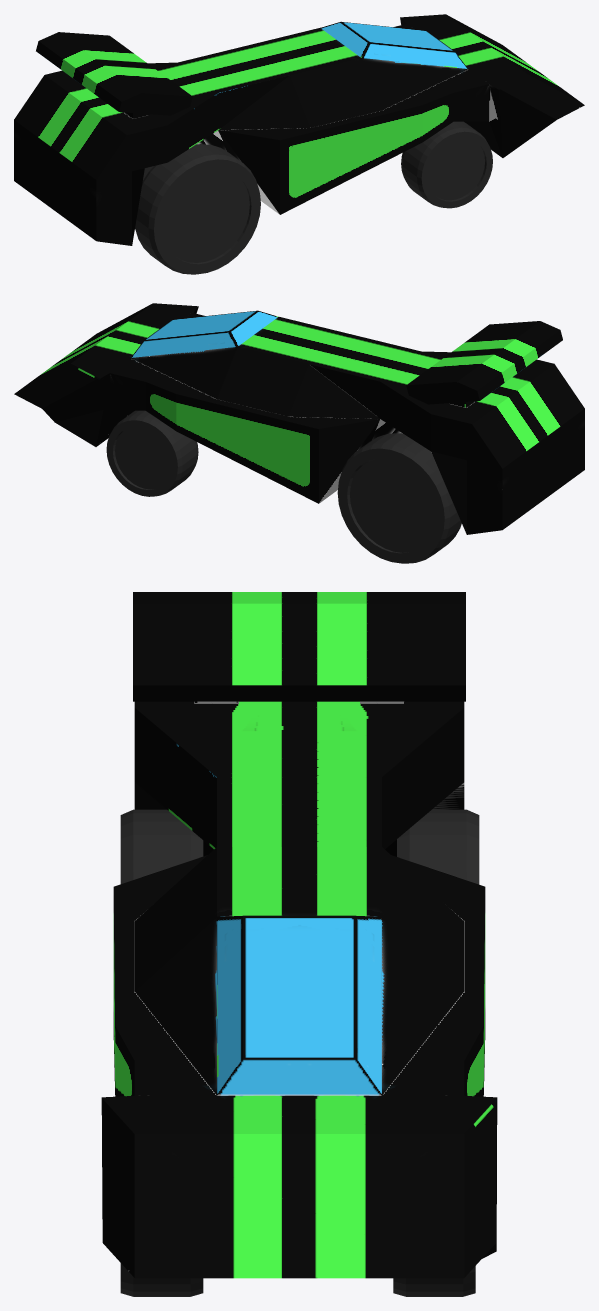
The model's file is PlayerRedo3.fbx.
The picture shows the model from 3 angles, top to bottom: view 1: azimuth 30°, elevation 25°; view 2: azimuth 150°, elevation 25°; view 3: azimuth 270°, elevation 25°; orthographic projection. The views are drawn at different scales.
Parts seen in each view (by area): view 1: Cube, Cylinder.002, Cylinder; view 2: Cube, Cylinder.003, Cylinder.001; view 3: Cube, Cylinder.003, Cylinder.002, Cylinder, Cylinder.001.
Part boxes in pixels (<box>): Cube: <box>14,14,584,245</box>; Cylinder.002: <box>135,144,260,274</box>; Cylinder: <box>401,121,492,208</box>; Cube: <box>14,303,584,534</box>; Cylinder.003: <box>337,433,461,563</box>; Cylinder.001: <box>106,410,198,496</box>; Cube: <box>101,592,497,1278</box>; Cylinder.003: <box>397,809,479,884</box>; Cylinder.002: <box>120,809,203,883</box>; Cylinder: <box>120,1263,203,1296</box>; Cylinder.001: <box>393,1266,475,1296</box>.
Bounding box in the file's own units: 1369 × 523 × 480.
5 materials, 1 textured.
